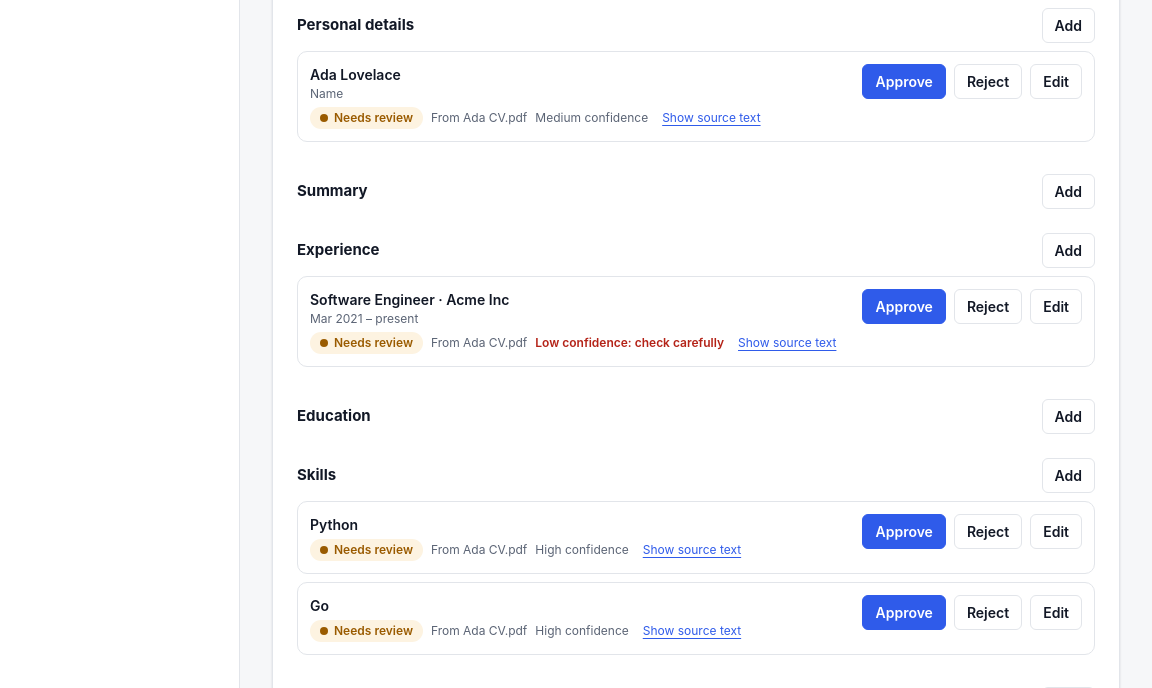
Test: career profile: review › groups facts by section with source, confidence and status
(page scrolled)
Check: the text "Software Engineer · Acme Inc" is shown, box [310, 291, 509, 308]
Check: the text "Mar 2021 – present" is shown, box [310, 311, 418, 326]
Step 1. Click the button "Show source text" next to "Low confidence: check carefully" → click(787, 343), box [732, 333, 842, 353]
(page scrolled)
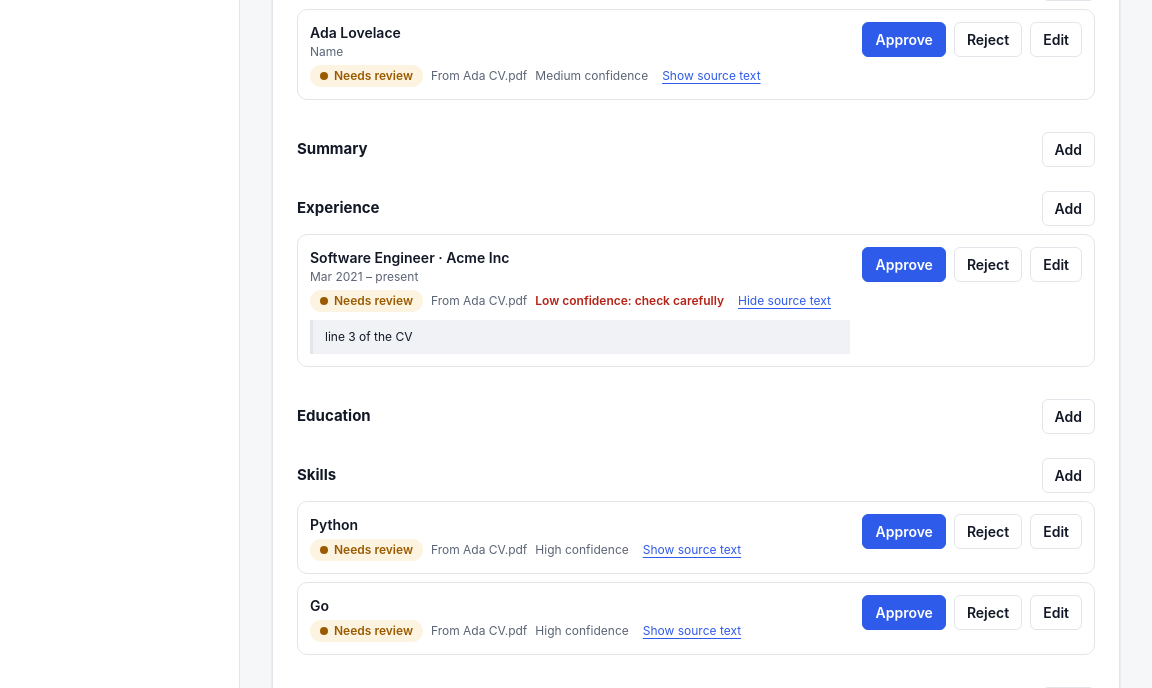
Check: the text with test id "fact-excerpt" shows "of the CV", box [325, 329, 412, 344]
